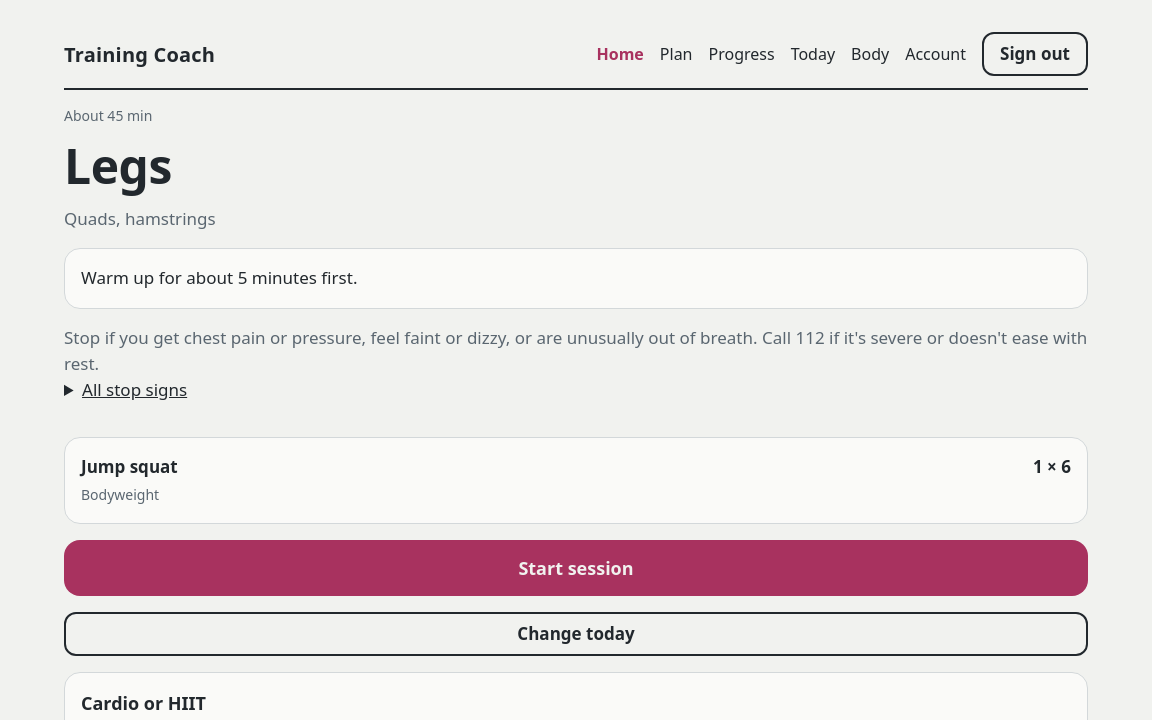
Scenario: a change from an out-of-date page (409) reloads today and says so
Step 1. Click the button "Change today" → (576, 634), box [64,612,1088,656]
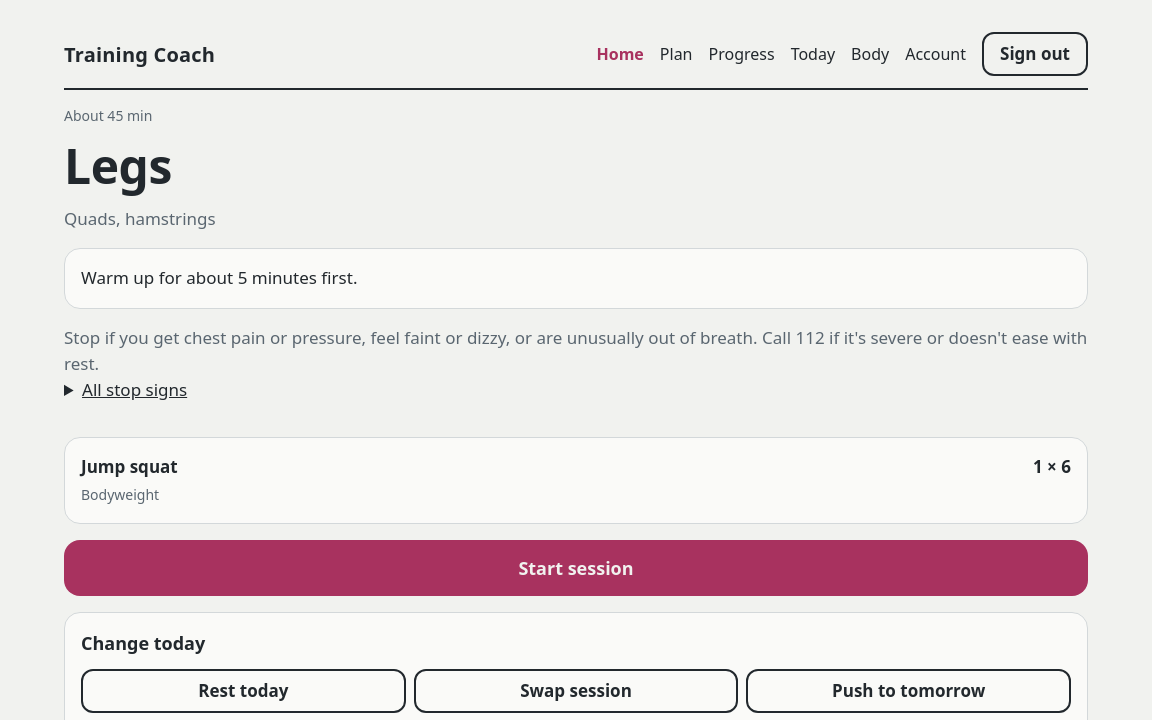
Step 2. Click the button "Push to tomorrow" → (909, 691), box [746,669,1071,713]
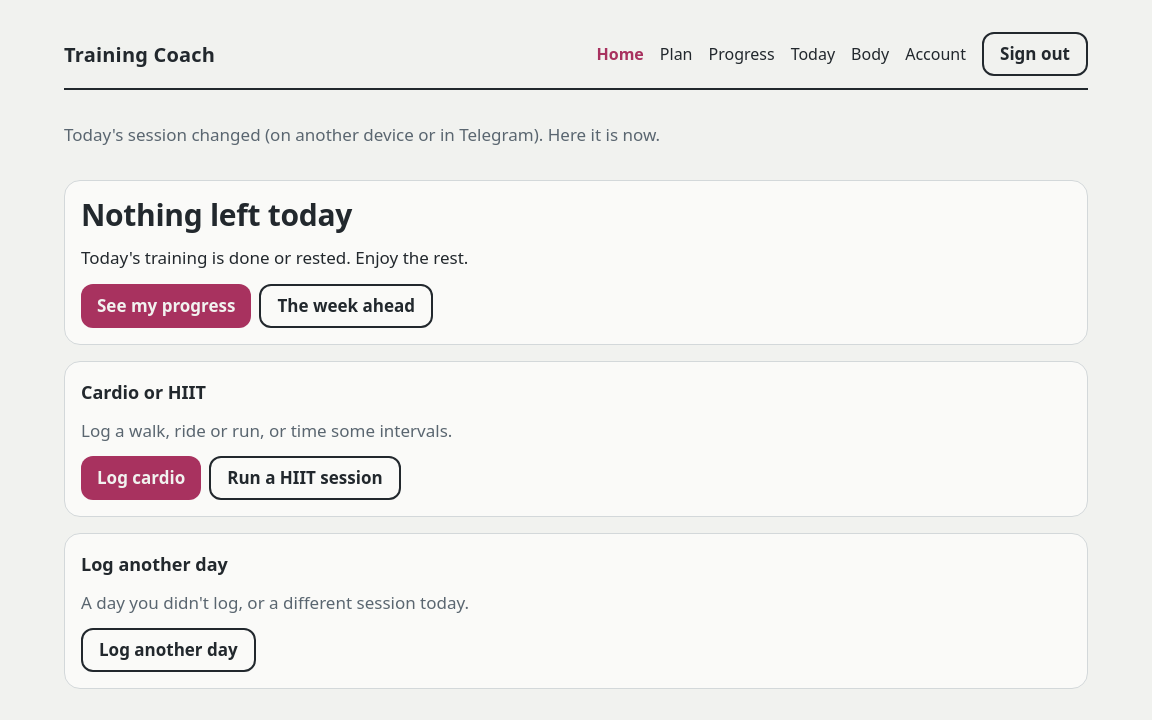
Expected: the heading "Nothing left today" is shown, [81,194,352,235]
Expected: the message shows "Today's session changed", [64,123,660,146]
